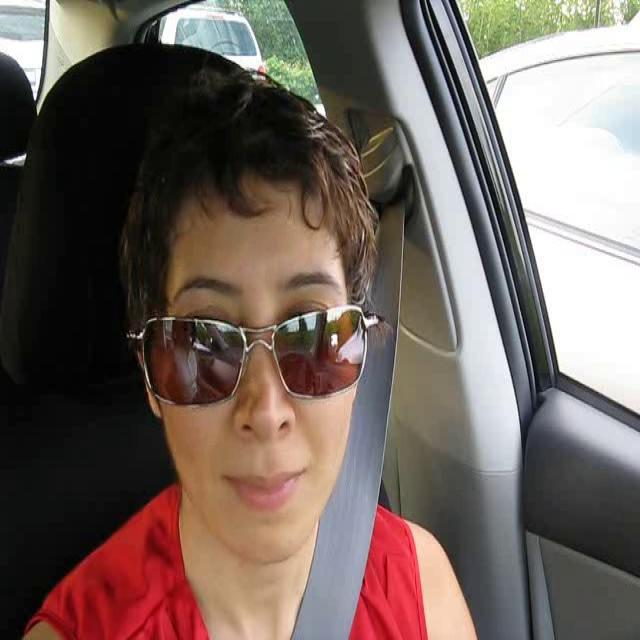close: (224, 463, 309, 516)
